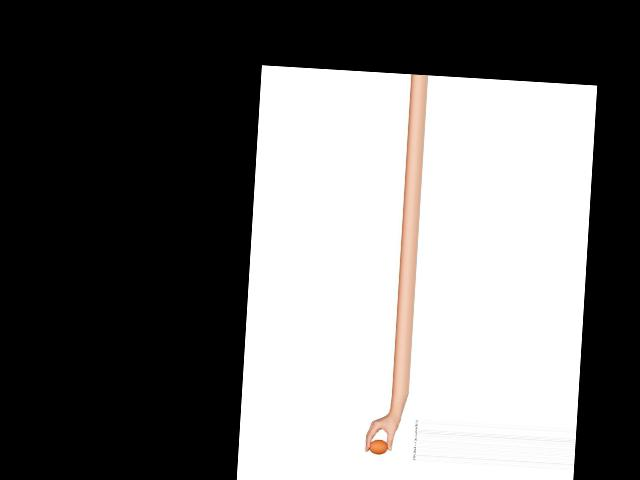egg: (368, 439, 389, 455)
